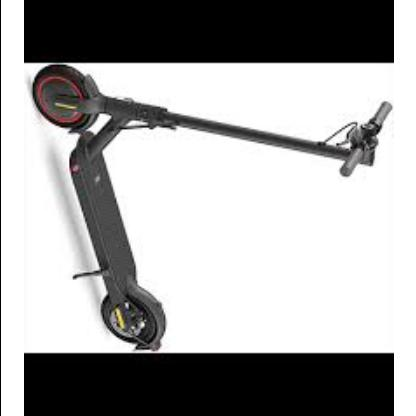bike: (32, 65, 389, 352)
